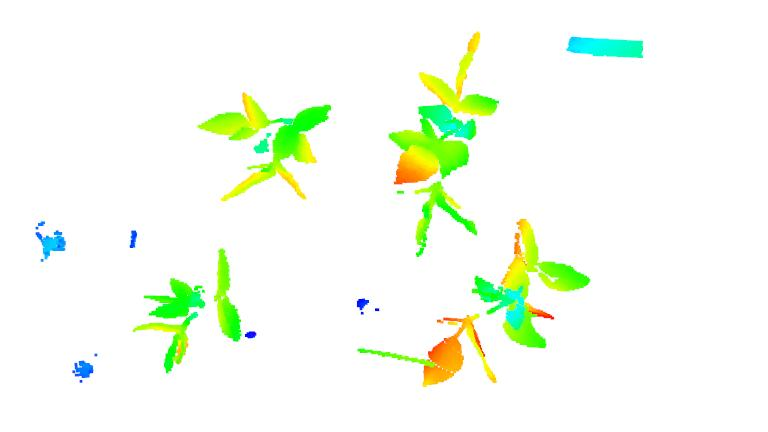mungbean: (412, 221, 600, 389), (383, 27, 508, 262), (188, 91, 335, 208), (130, 247, 243, 373)
